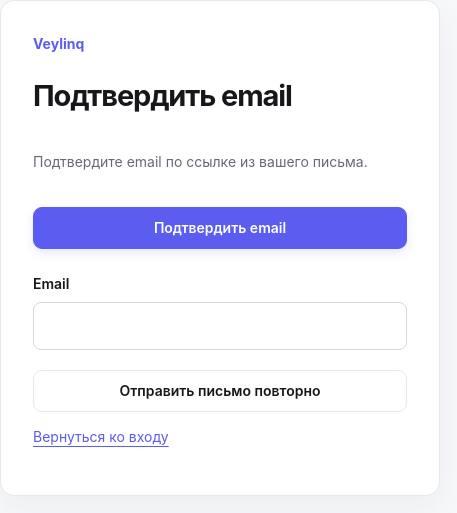
cleans fragment without auto consume, survives StrictMode and confirms without session
Click the button "Подтвердить email". click: (220, 228)
box: [33, 207, 407, 249]
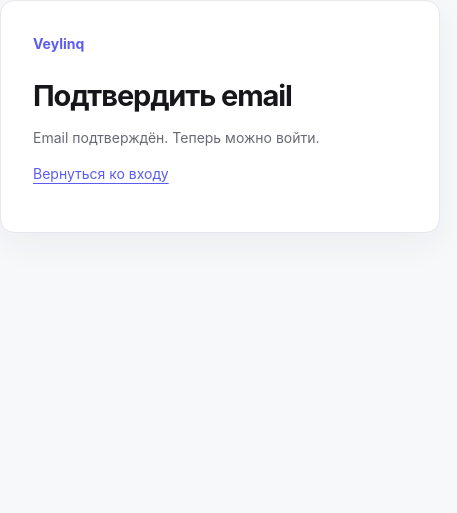
Now the text "Email подтверждён. Теперь можно войти." is shown, box [33, 129, 320, 146]
